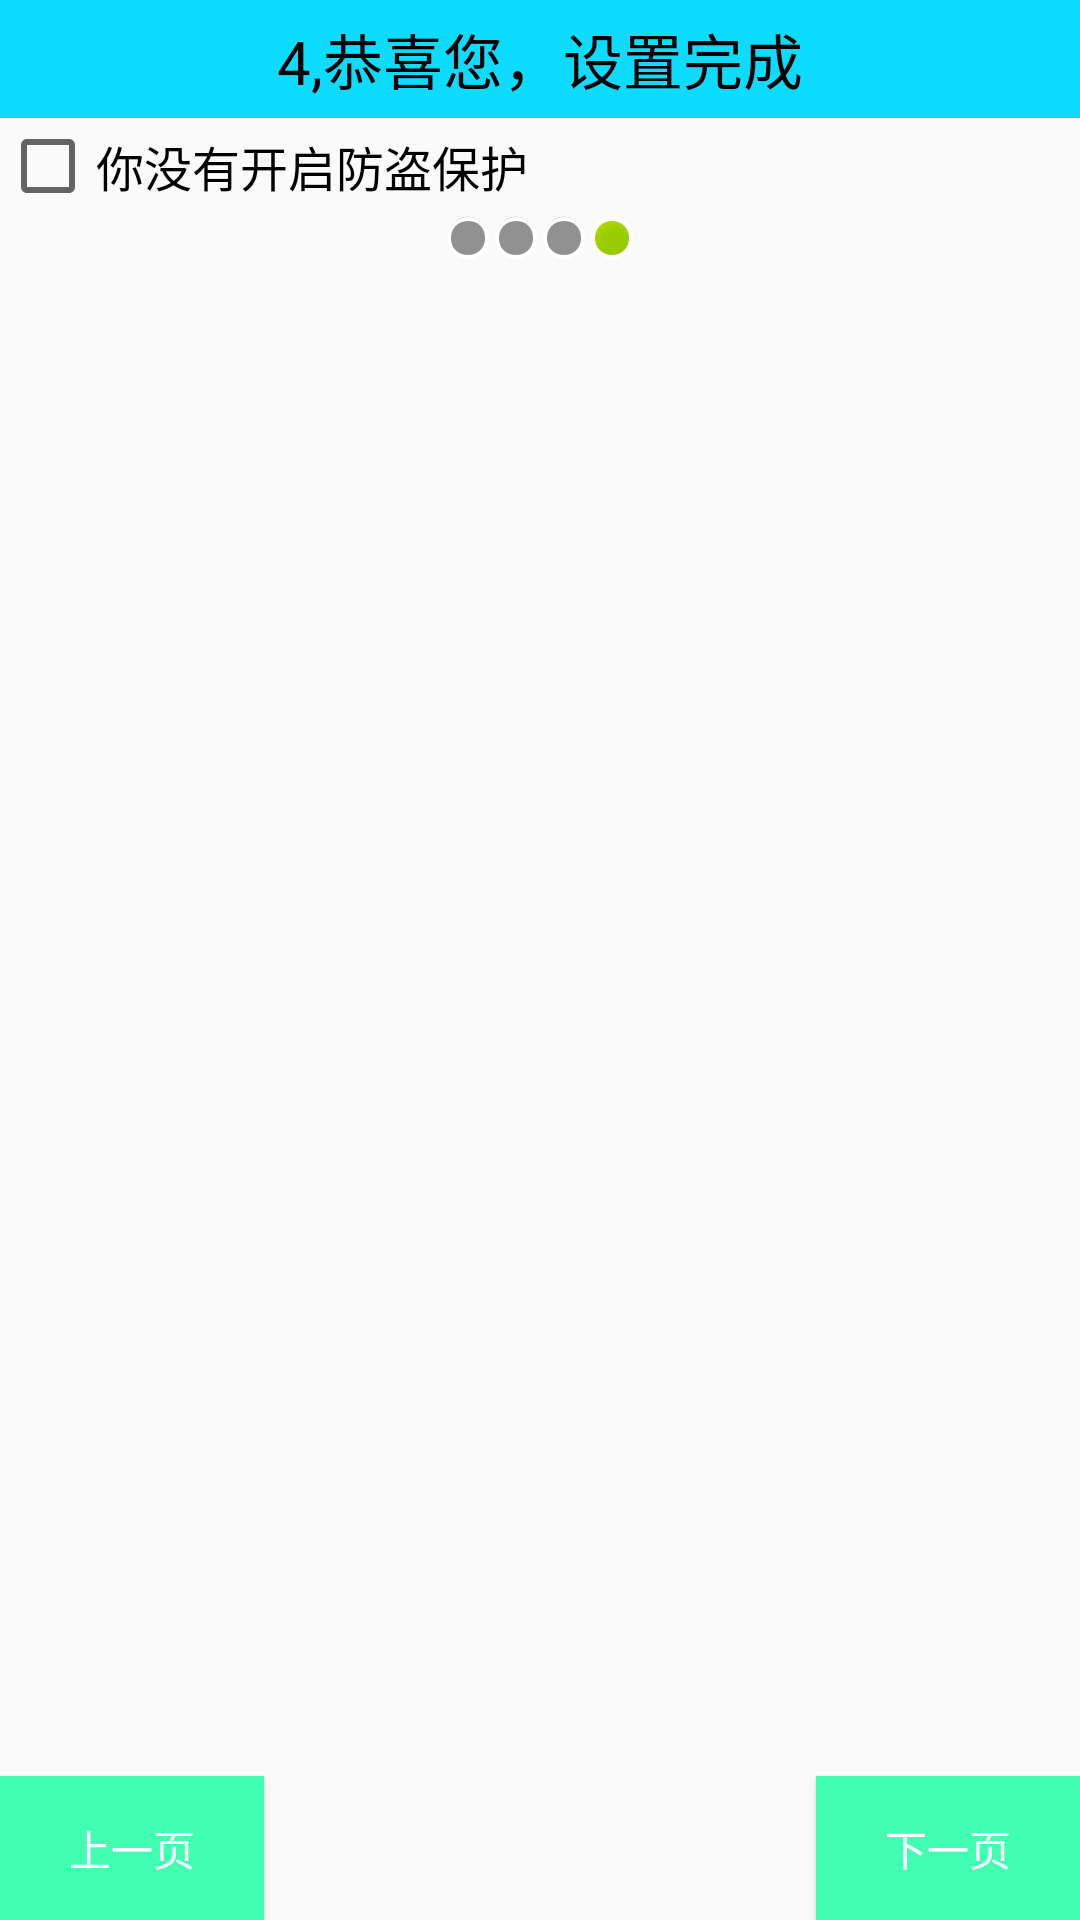

Screen size 1080 x 1920. Icon name, then its box in pixels as (x1, y1, x2, y2):
presence invisible: (451, 217, 485, 255), (499, 217, 533, 255), (547, 217, 581, 255)
presence online: (595, 221, 629, 255)
